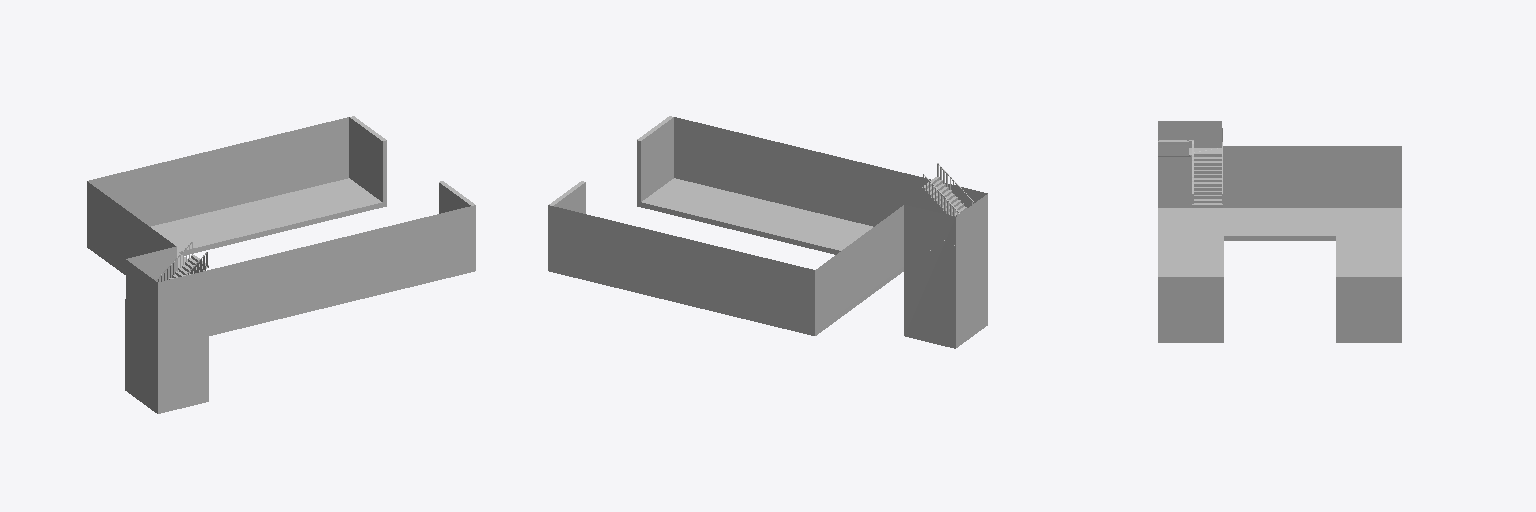
File: Floor1.obj
3 renders of one model, left to right at view 1: azimuth 30°, elevation 25°; view 2: azimuth 150°, elevation 25°; view 3: azimuth 270°, elevation 25°, orthographic.
Parts seen in each view (by area): view 1: polySurface2; view 2: polySurface2; view 3: polySurface2.
Boxes of the visible parts, <box> form: polySurface2: <box>87,116,475,413</box>; polySurface2: <box>548,116,987,348</box>; polySurface2: <box>1158,121,1401,342</box>.
Bounding box in the file's own units: 3697 × 1661 × 2450.